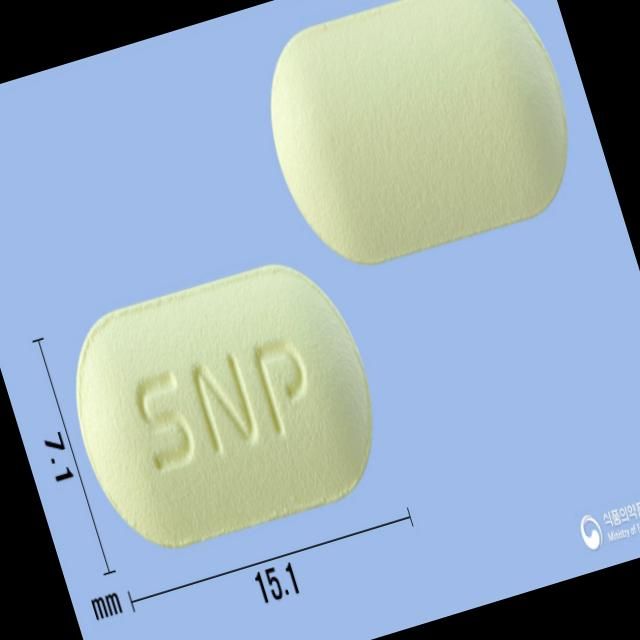A Progen Clarithromycin Tab: (49, 243, 401, 565)
